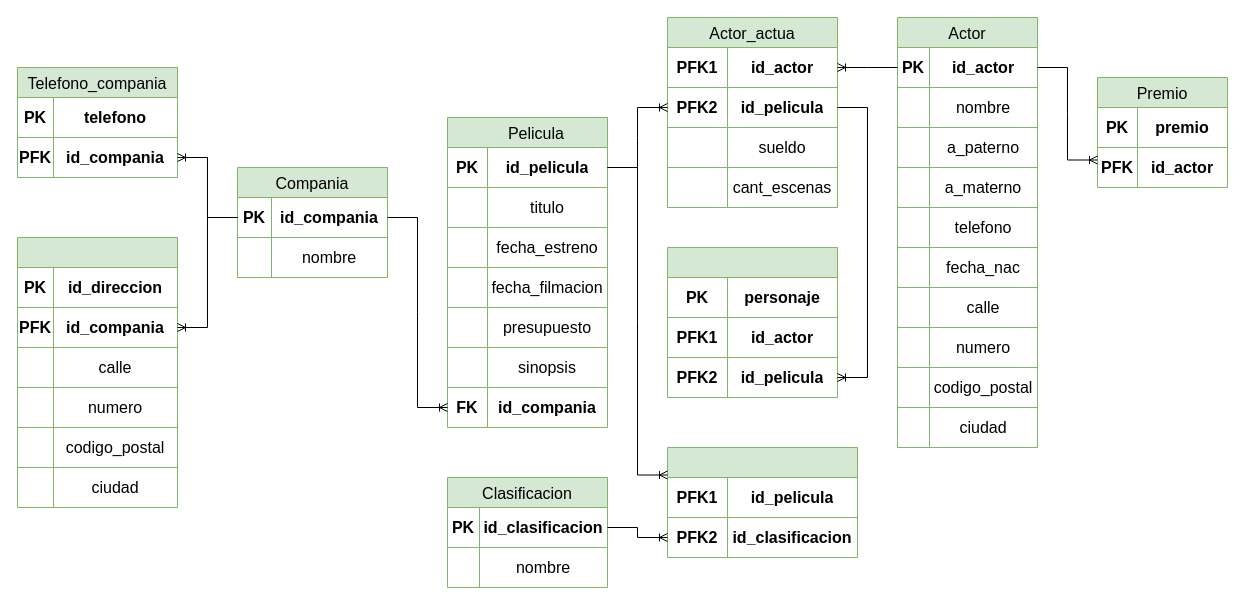
This 1246x605 diagram has some shape labels left out. Each missing label, with the box of its shape:
Direcciones_compania: (16, 236, 178, 508)
Peliculas_clasificacion: (666, 446, 858, 558)
Personaje_actor: (666, 246, 838, 398)
